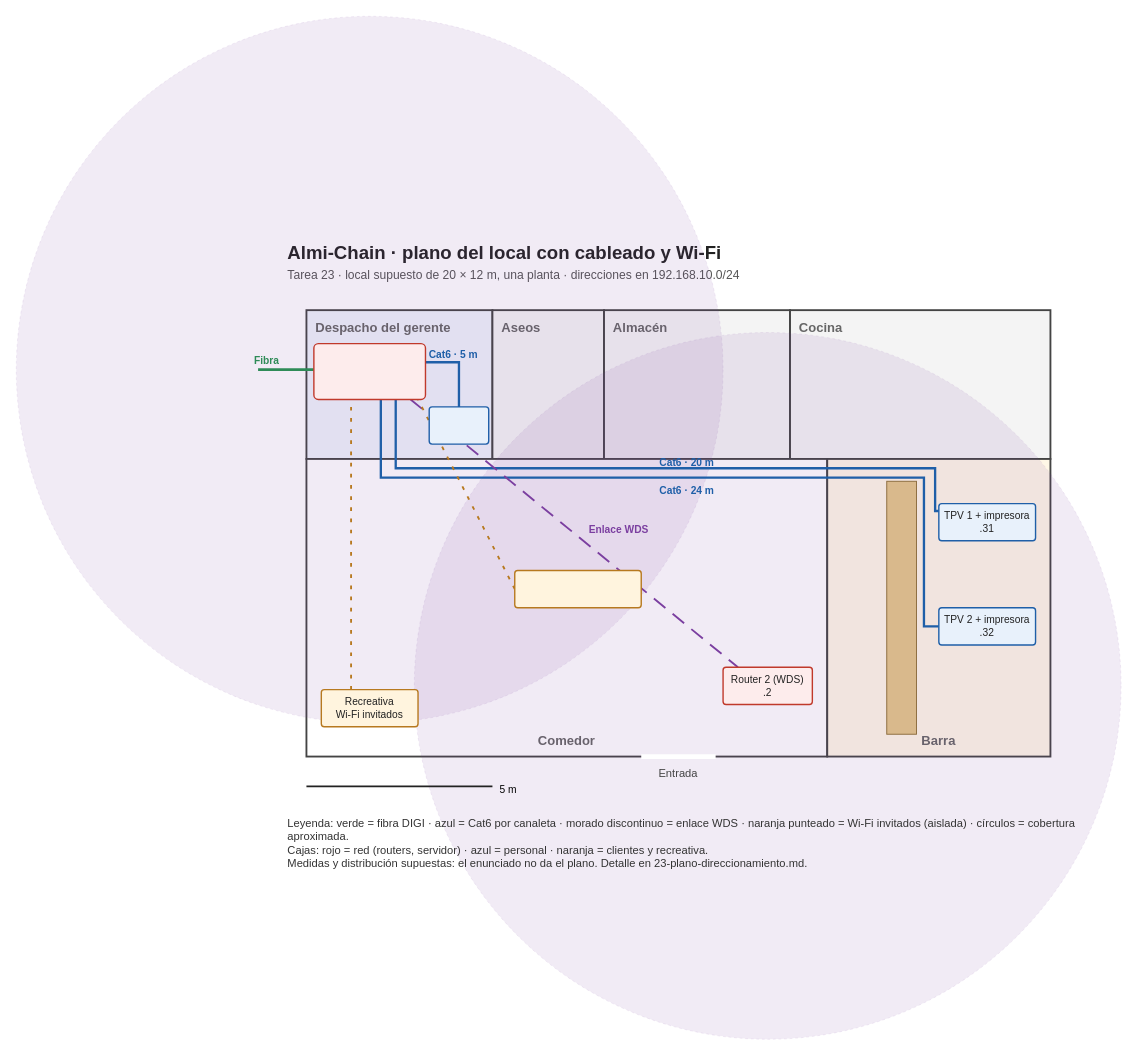
The diagram is 1143 pixels wide and 1056 high, and some of its shapes have lost their labels. The shapes that lost their labels are listed below. From the top down, each one's centre as x and y in pixels, then its label:
At point 369,371: "Armario de red ONT · Router 1 (.1) Servidor Odoo (.10)".
At point 458,425: "PC gerente .20".
At point 578,588: "Móviles de clientes Wi-Fi invitados".
